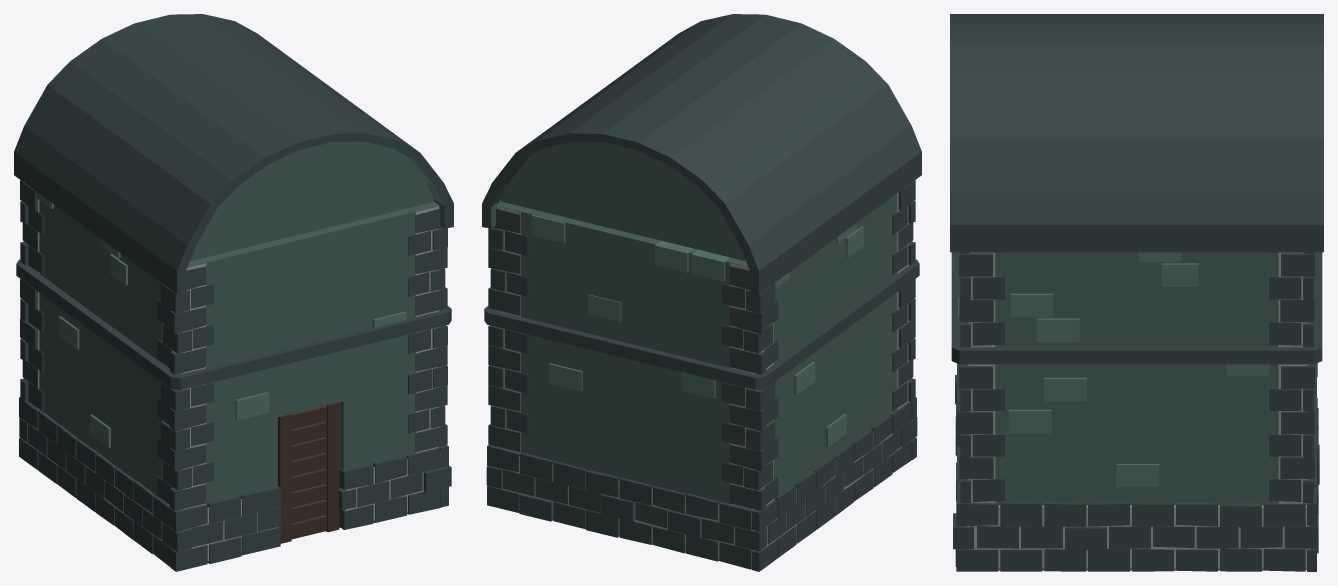
The model's file is 2Story_RoundRoof.glb.
3 views of the same model, side by side, from view 1: azimuth 30°, elevation 25°; view 2: azimuth 150°, elevation 25°; view 3: azimuth 270°, elevation 25° (orthographic). The views are drawn at different scales.
Visible parts, largest first — view 1: 2Story_RoundRoof_Mat; view 2: 2Story_RoundRoof_Mat; view 3: 2Story_RoundRoof_Mat.
Boxes of the visible parts, x1,y1,x2,y2 form: 2Story_RoundRoof_Mat: [14, 14, 453, 571]; 2Story_RoundRoof_Mat: [482, 14, 921, 571]; 2Story_RoundRoof_Mat: [950, 14, 1323, 571].
Size of the model in its own units: 2.11 by 2.9 by 2.13.
